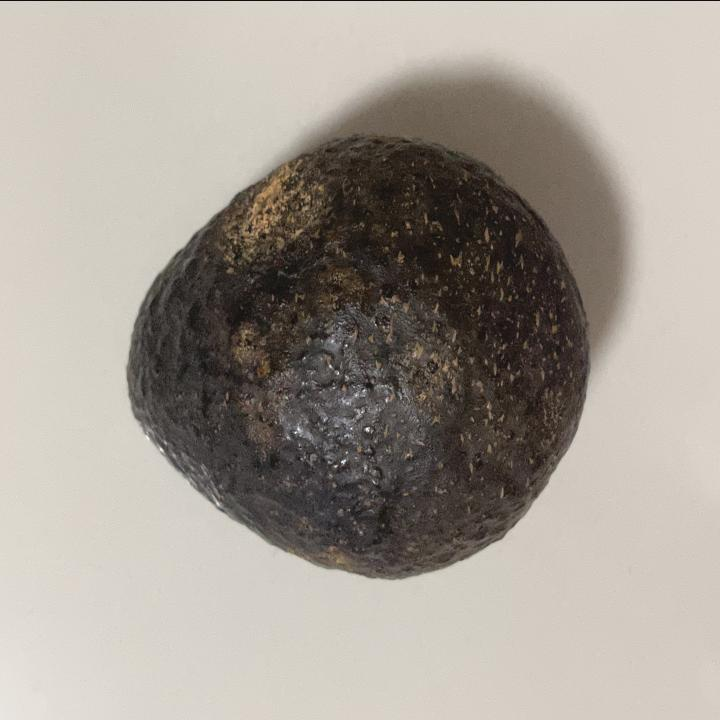Level3: (118, 124, 595, 590)
